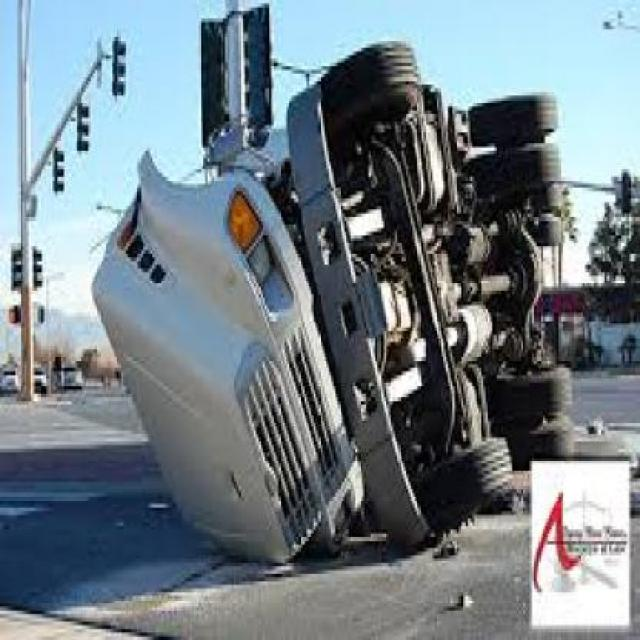accident: (82, 15, 581, 562)
